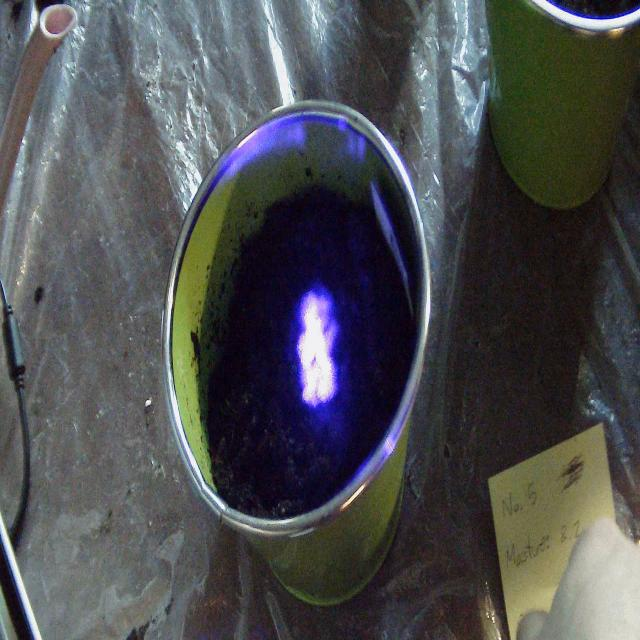soil-moisture-8.2: (293, 283, 348, 429)
